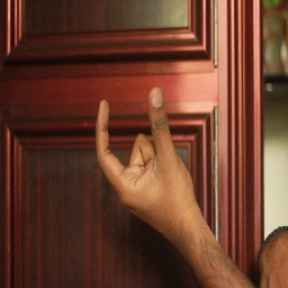U: (74, 80, 197, 210)
